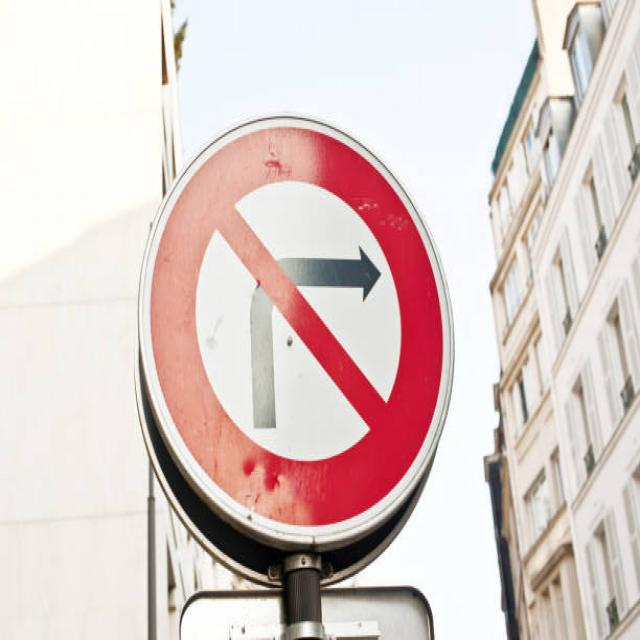do_not_turn_right: (137, 94, 458, 552)
